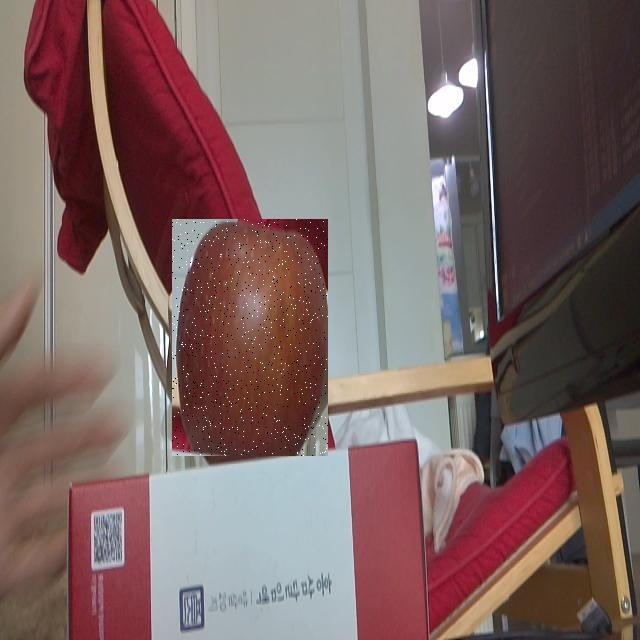apple: (172, 219, 328, 456)
